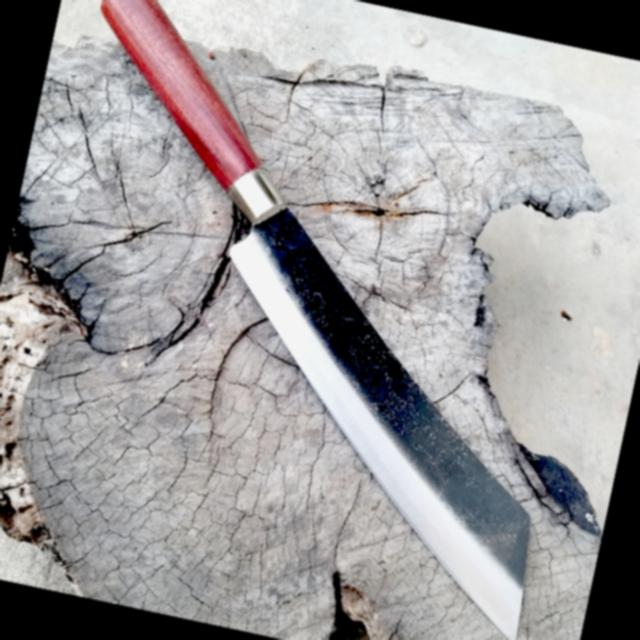eto: (92, 0, 537, 640)
